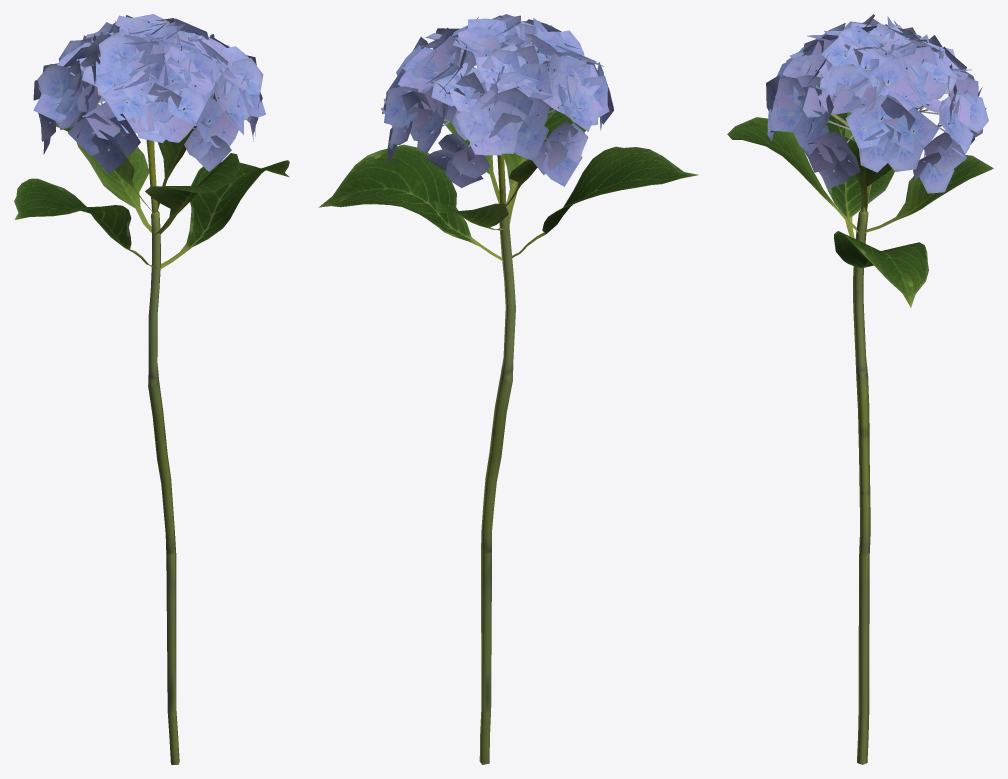
Rendered from Hydrangea_OG_long_lightblue.glb.
3 renders of one model, left to right at view 1: azimuth 30°, elevation 25°; view 2: azimuth 150°, elevation 25°; view 3: azimuth 270°, elevation 25°, orthographic. The views are drawn at different scales.
Visible parts, largest first — view 1: Hydrangea; view 2: Hydrangea; view 3: Hydrangea.
Boxes of the visible parts, bbox=[...] form: Hydrangea: bbox=[14, 14, 289, 764]; Hydrangea: bbox=[318, 14, 698, 764]; Hydrangea: bbox=[727, 14, 993, 764].
Bounding box in the file's own units: 1.38 × 2.99 × 1.
1 material, 1 textured.
